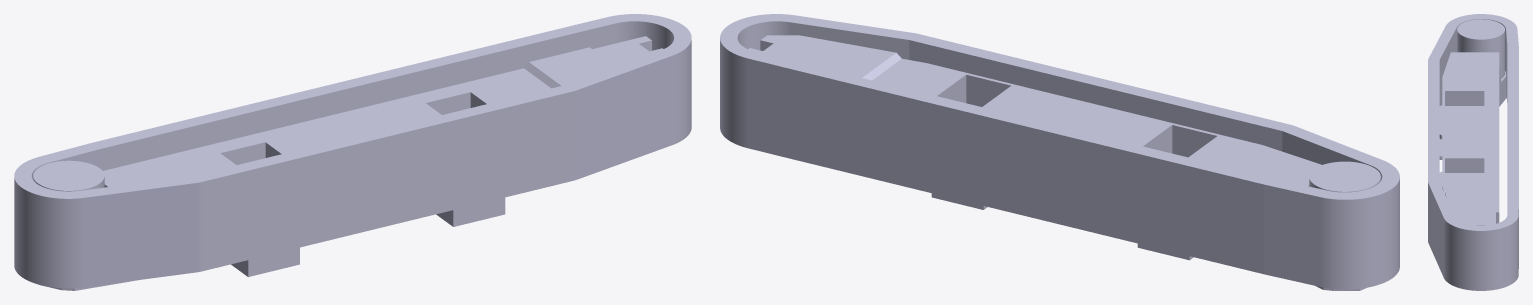
Rendered from CRAWLER_L.obj.
3 renders of one model, left to right at view 1: azimuth 30°, elevation 25°; view 2: azimuth 150°, elevation 25°; view 3: azimuth 270°, elevation 25°, orthographic. The views are drawn at different scales.
Visible parts, largest first — view 1: HSC_1000HLX_CRAWLER_L_000_1-1000HLX_CRAWLER_L012 (Meshed); view 2: HSC_1000HLX_CRAWLER_L_000_1-1000HLX_CRAWLER_L012 (Meshed); view 3: HSC_1000HLX_CRAWLER_L_000_1-1000HLX_CRAWLER_L012 (Meshed).
Part boxes in pixels (<box>): HSC_1000HLX_CRAWLER_L_000_1-1000HLX_CRAWLER_L012 (Meshed): <box>14,14,691,290</box>; HSC_1000HLX_CRAWLER_L_000_1-1000HLX_CRAWLER_L012 (Meshed): <box>720,14,1399,290</box>; HSC_1000HLX_CRAWLER_L_000_1-1000HLX_CRAWLER_L012 (Meshed): <box>1428,14,1518,290</box>.
Size of the model in its own units: 6293 by 1061 by 1113.
